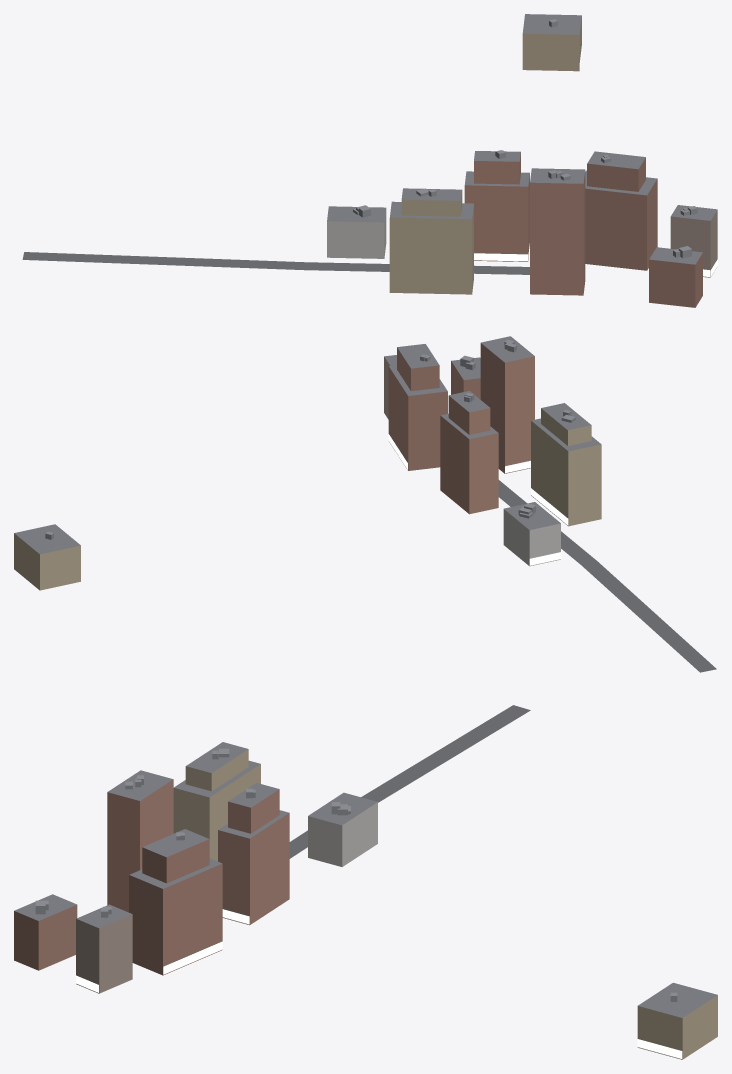
The picture shows the model from 3 angles, top to bottom: view 1: azimuth 30°, elevation 25°; view 2: azimuth 150°, elevation 25°; view 3: azimuth 270°, elevation 25°; orthographic projection. The views are drawn at different scales.
Size of the model in its own units: 311 by 54.64 by 259.
